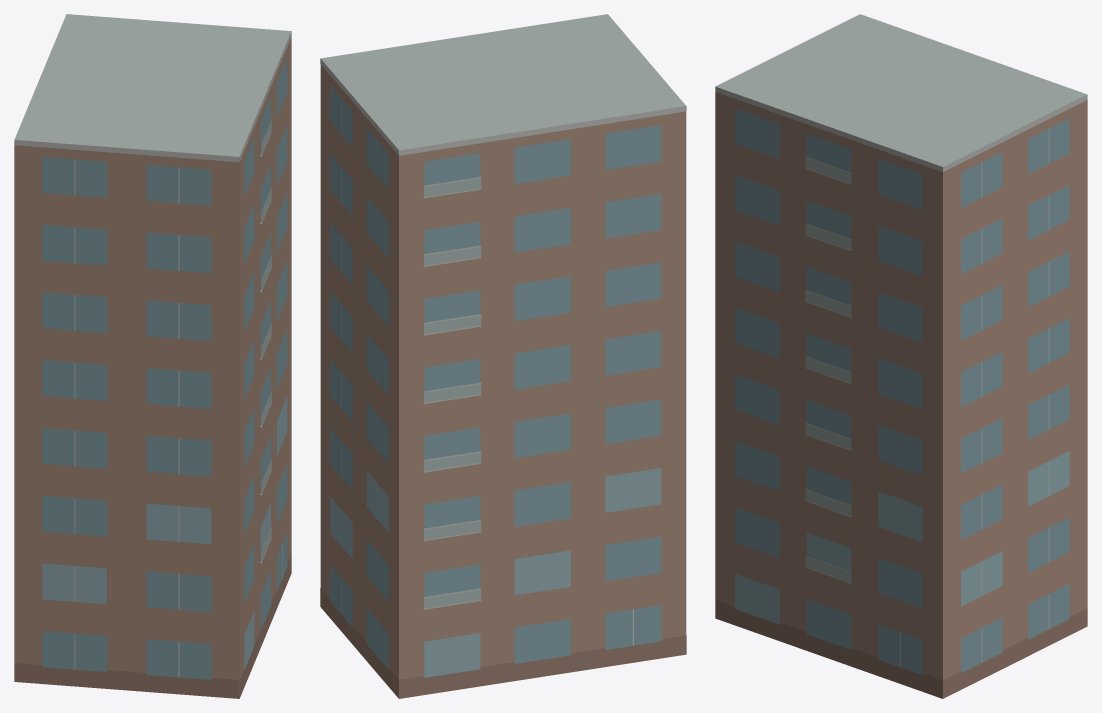
The model's file is survey-upis-32561109.glb.
3 renders of one model, left to right at view 1: azimuth 30°, elevation 25°; view 2: azimuth 150°, elevation 25°; view 3: azimuth 270°, elevation 25°, orthographic. The views are drawn at different scales.
Parts seen in each view (by area): view 1: survey-upis-32561109.tmp; view 2: survey-upis-32561109.tmp; view 3: survey-upis-32561109.tmp.
Boxes of the visible parts, box(x1,y1,x2,y2) form: survey-upis-32561109.tmp: box(14, 14, 291, 698); survey-upis-32561109.tmp: box(320, 14, 686, 698); survey-upis-32561109.tmp: box(715, 14, 1087, 698).
Size of the model in its own units: 15.31 by 24.8 by 15.74.
